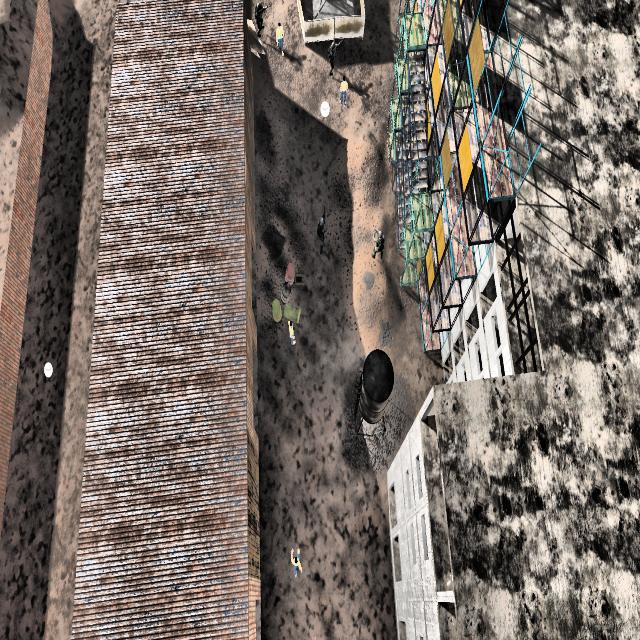bad: (368, 217, 389, 264), (310, 210, 329, 260), (252, 0, 269, 41), (326, 33, 340, 76)
good: (285, 541, 306, 587), (284, 309, 300, 356), (272, 20, 288, 58), (337, 69, 351, 109)
